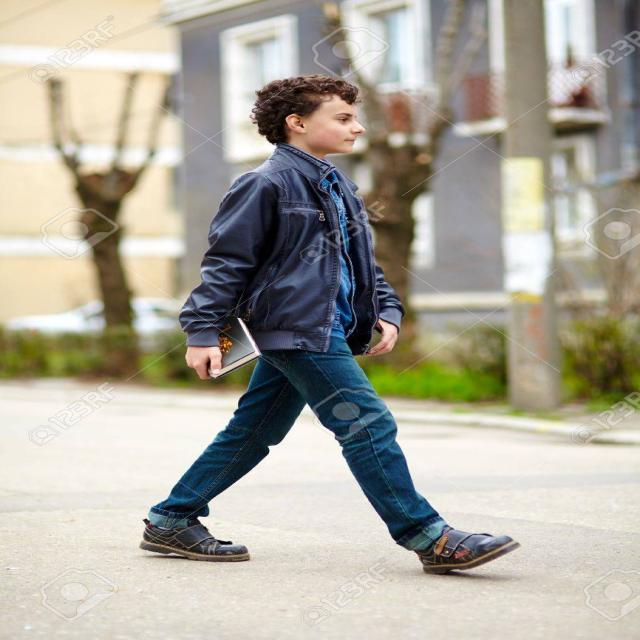Person: (142, 75, 520, 576)
